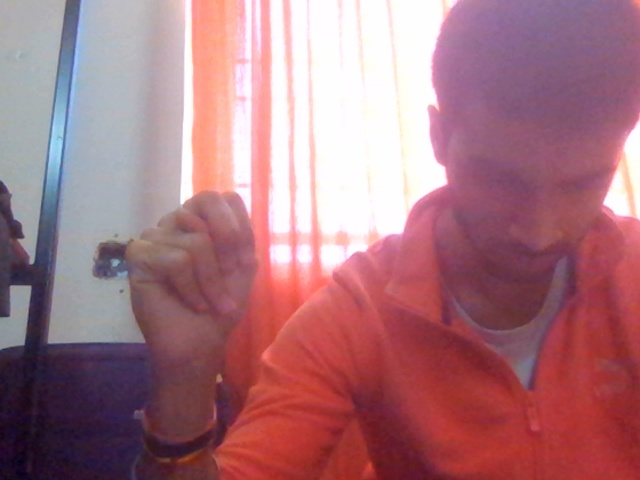N: (82, 173, 311, 412)
